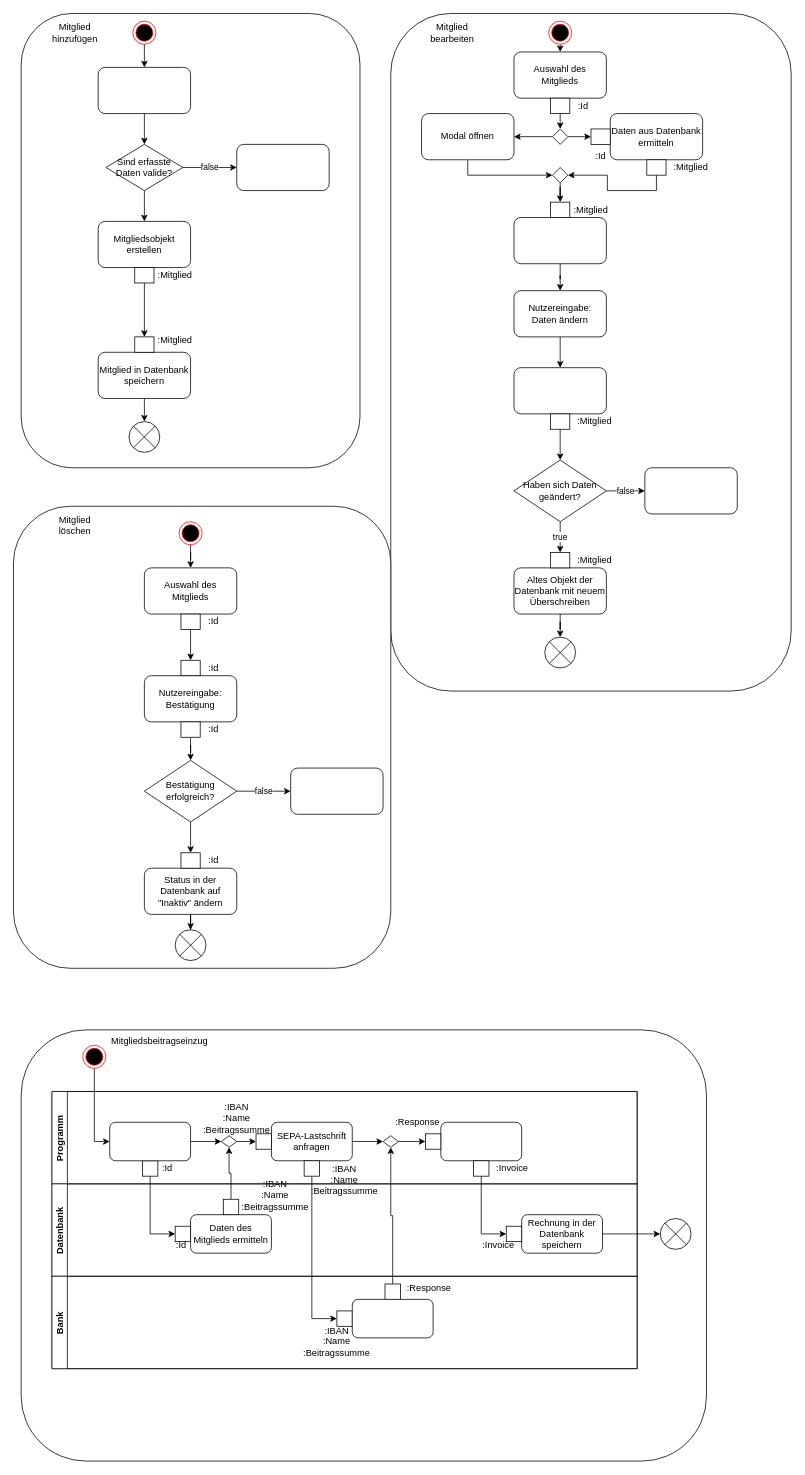
Image size: 805x1475. Some labels were removed from this diagram. Here are the shapes that lost their labels. From the top down, the centre of each, then its label:
(x=144, y=90): Datenerfassung des neuen Mitglieds
(x=282, y=167): Fehlermeldung
(x=559, y=240): Daten anzeigen
(x=559, y=390): Knopfdruck: Speichern
(x=690, y=490): Rückmeldung anzeigen: Es wurden keine Daten geändert
(x=336, y=790): Rückmeldung: Löschung abgebrochen
(x=150, y=1141): Anfrage zur Zahlung von Mitglied
(x=481, y=1141): Rechnung speichern
(x=392, y=1318): SEPA-Lastschrift durchführen
